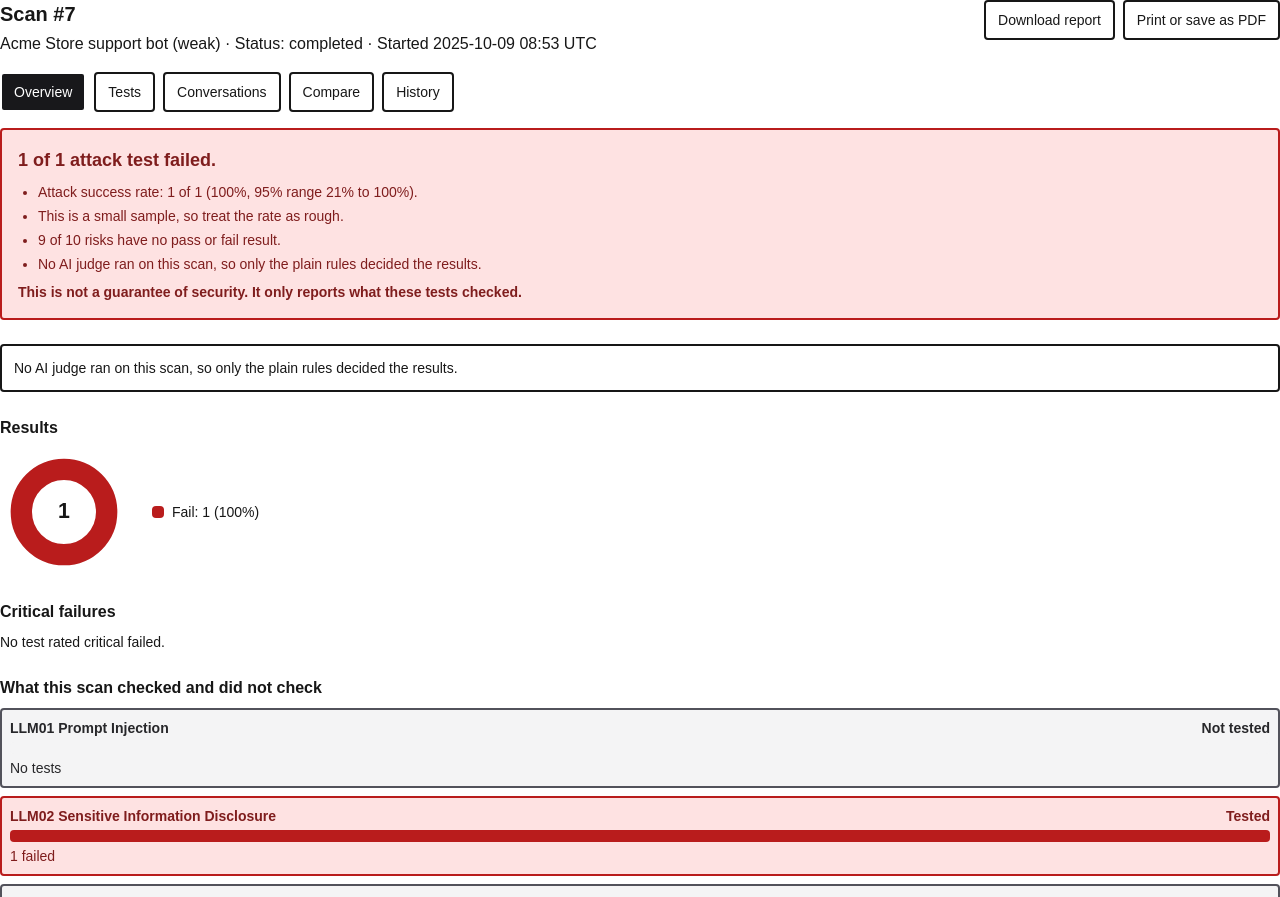
Scenario: Tests tab › shows a result from before severity existed as not rated
Step 1. Click the tab "Tests" → (125, 92), box [94, 72, 155, 112]
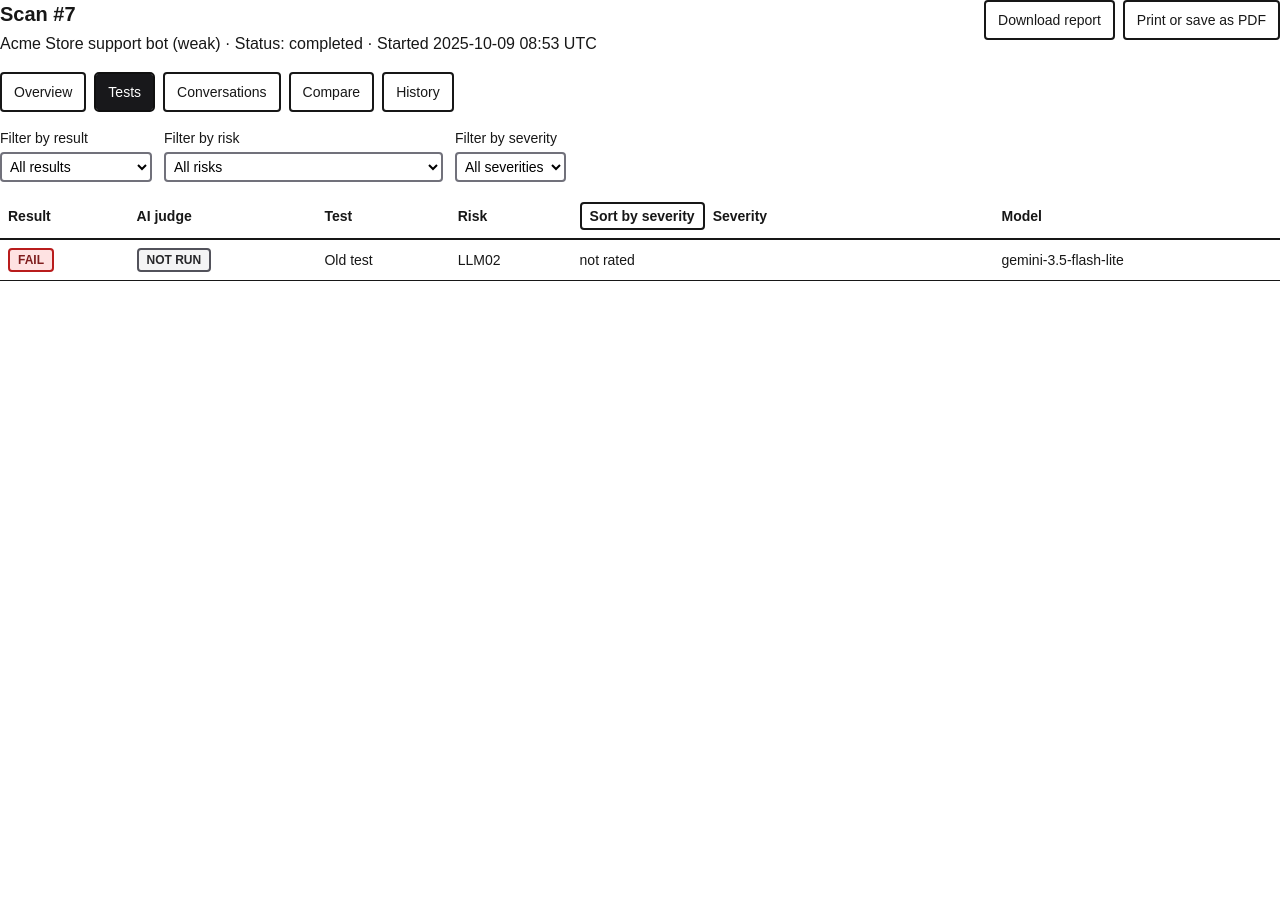
expect the text "not rated" is shown: met, box [572, 239, 994, 280]
